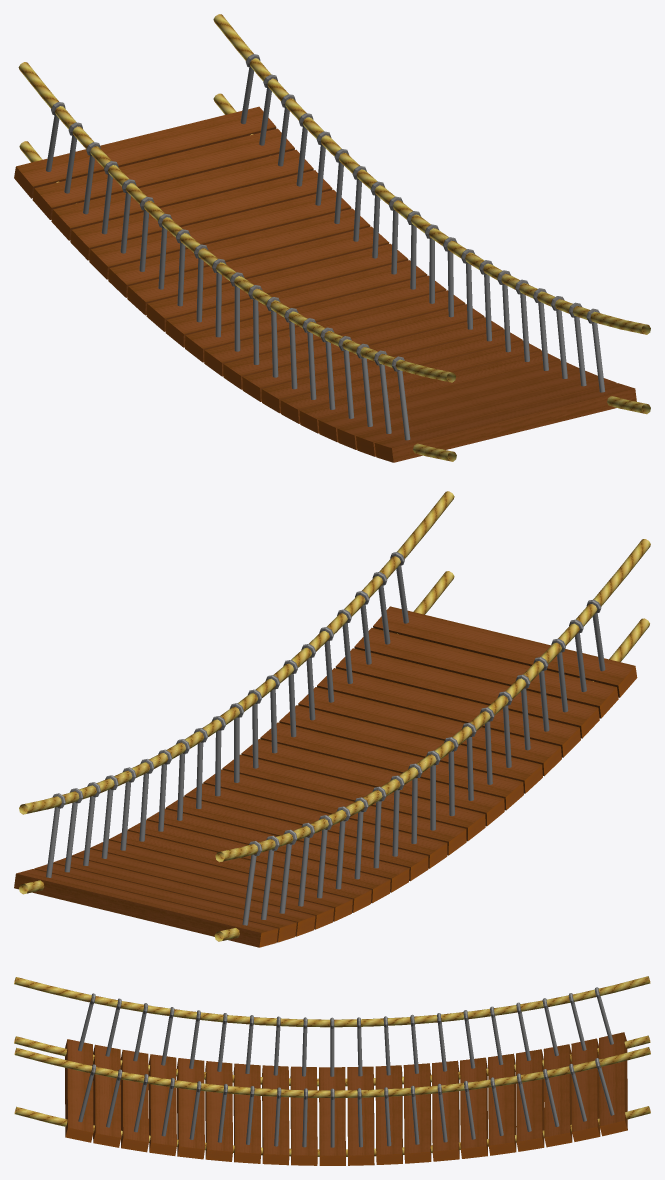
Rendered from Bridge.obj.
The picture shows the model from 3 angles, top to bottom: view 1: azimuth 30°, elevation 25°; view 2: azimuth 150°, elevation 25°; view 3: azimuth 270°, elevation 25°; orthographic projection. The views are drawn at different scales.
Parts seen in each view (by area): view 1: pasted__polySurface2 group; view 2: pasted__polySurface2 group; view 3: pasted__polySurface2 group.
Part boxes in pixels (x1,y1,x2,y2): pasted__polySurface2 group: (14,14,650,462); pasted__polySurface2 group: (14,491,650,947); pasted__polySurface2 group: (14,976,650,1165).
Size of the model in its own units: 1.79 by 1.02 by 5.39.
4 materials, 3 textured.
